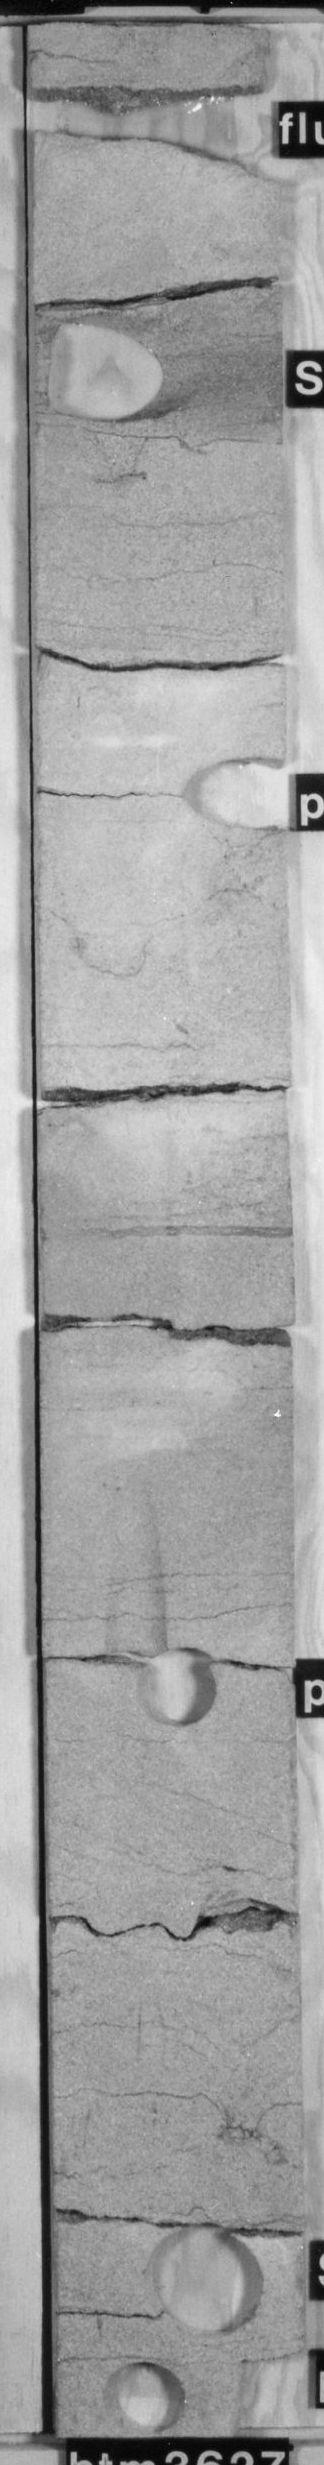hplug: (24, 71, 272, 181), (179, 737, 285, 852), (126, 1648, 241, 1743), (88, 2357, 197, 2435)
scal: (31, 299, 250, 448), (145, 2221, 274, 2346)
vplug: (96, 1489, 175, 1659)
